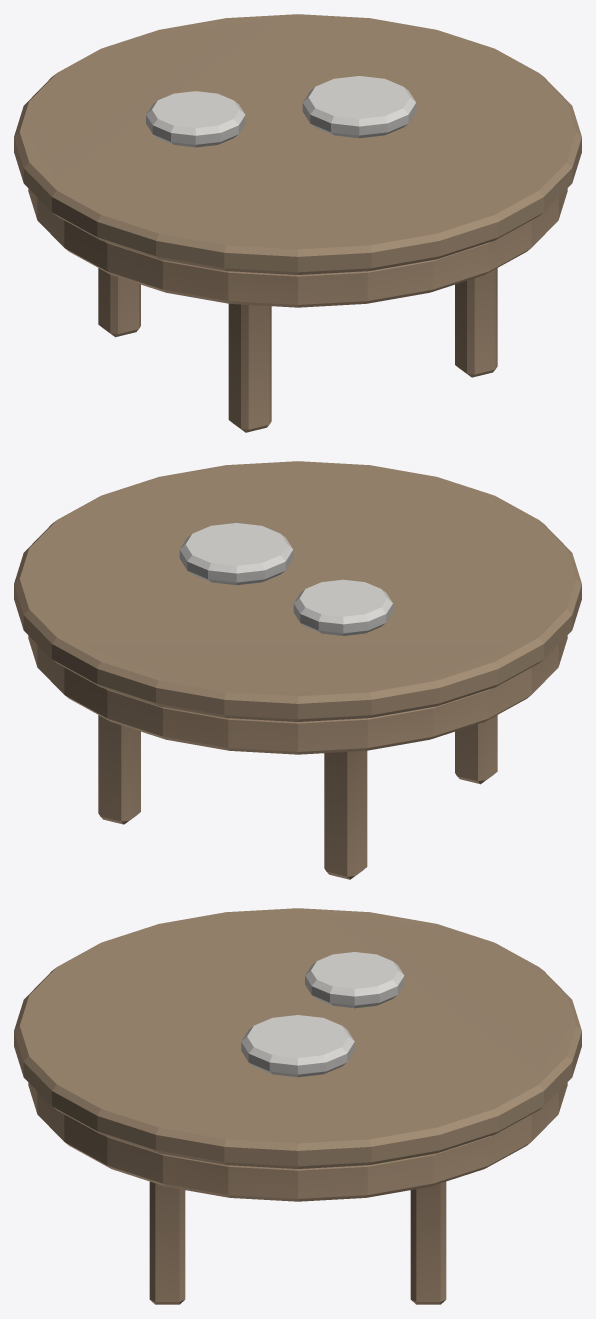
The model's file is furn_soban__walnut.glb.
3 views of the same model, one above another, from view 1: azimuth 30°, elevation 25°; view 2: azimuth 150°, elevation 25°; view 3: azimuth 270°, elevation 25° (orthographic).
Bounding box in the file's own units: 0.8 × 0.37 × 0.8.
